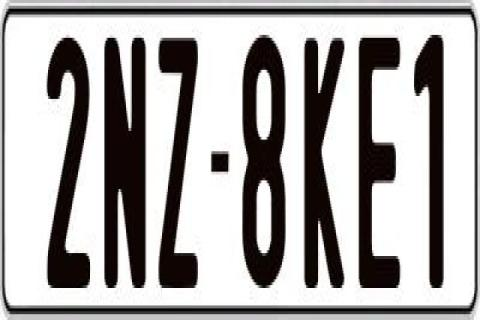0: (46, 35, 92, 299), (240, 35, 284, 303), (412, 32, 448, 296)
E: (356, 32, 402, 294)
K: (303, 32, 350, 288)
N: (104, 35, 150, 299)
Z: (158, 35, 200, 303)
